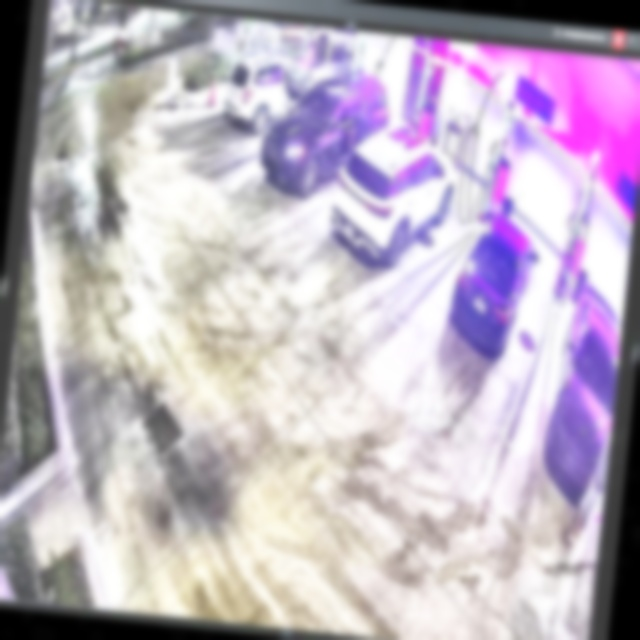Car: (330, 116, 460, 274), (257, 66, 390, 195), (447, 207, 542, 363)
